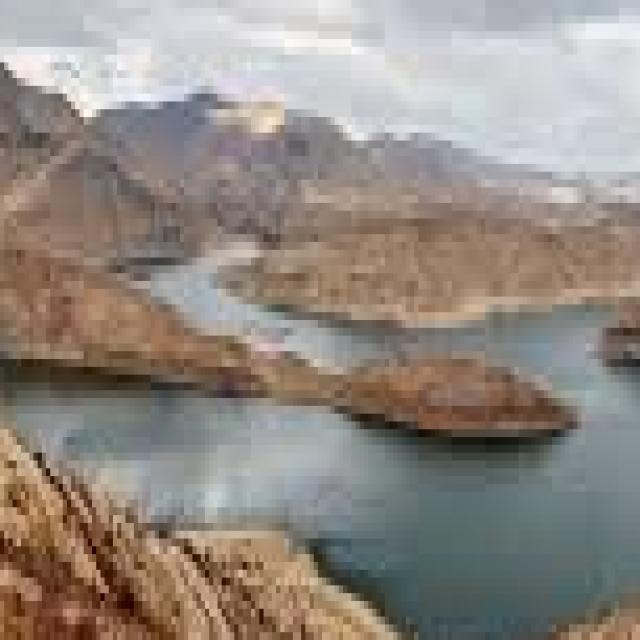-: (172, 405, 364, 533), (419, 486, 618, 524), (598, 367, 640, 507)
